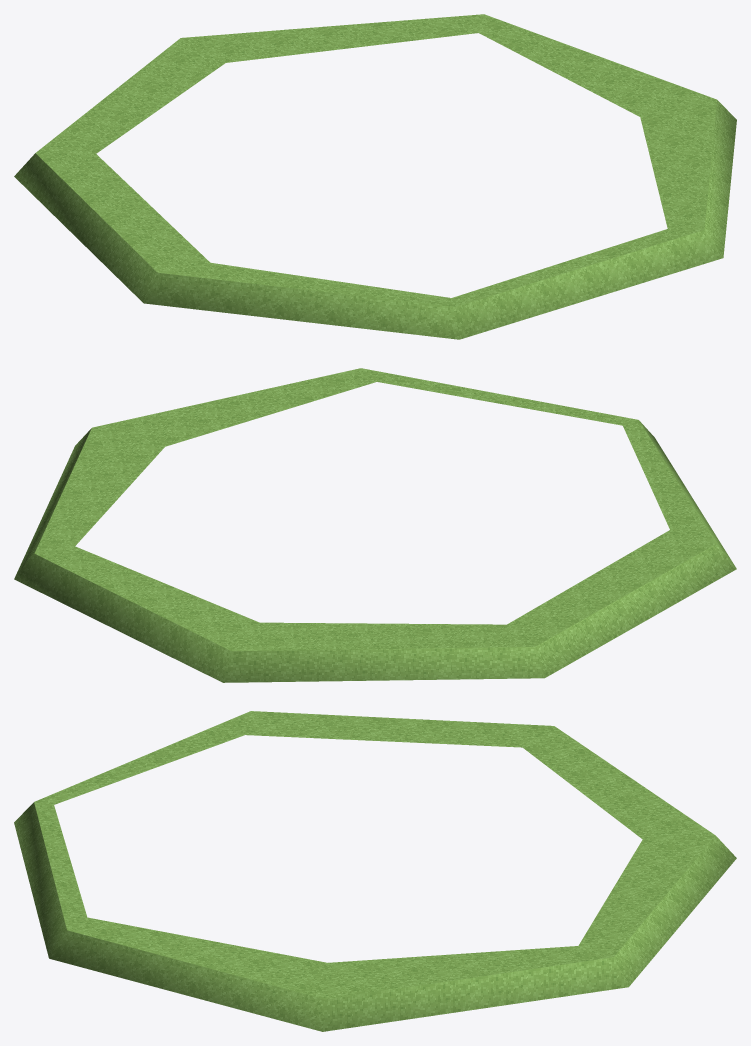
File: kd_connection_world-outer_surface_13_2.glb
The picture shows the model from 3 angles, top to bottom: view 1: azimuth 30°, elevation 25°; view 2: azimuth 150°, elevation 25°; view 3: azimuth 270°, elevation 25°; orthographic projection.
Visible parts, largest first — view 1: kd_connection_world-outer_surface_13_2; view 2: kd_connection_world-outer_surface_13_2; view 3: kd_connection_world-outer_surface_13_2.
Part boxes in pixels (left/top/right/bottom): kd_connection_world-outer_surface_13_2: left=14, top=14, right=736, bottom=339; kd_connection_world-outer_surface_13_2: left=14, top=368, right=736, bottom=682; kd_connection_world-outer_surface_13_2: left=14, top=711, right=736, bottom=1031.
Bounding box in the file's own units: 189 × 6.8 × 189.
1 material, 1 textured.
